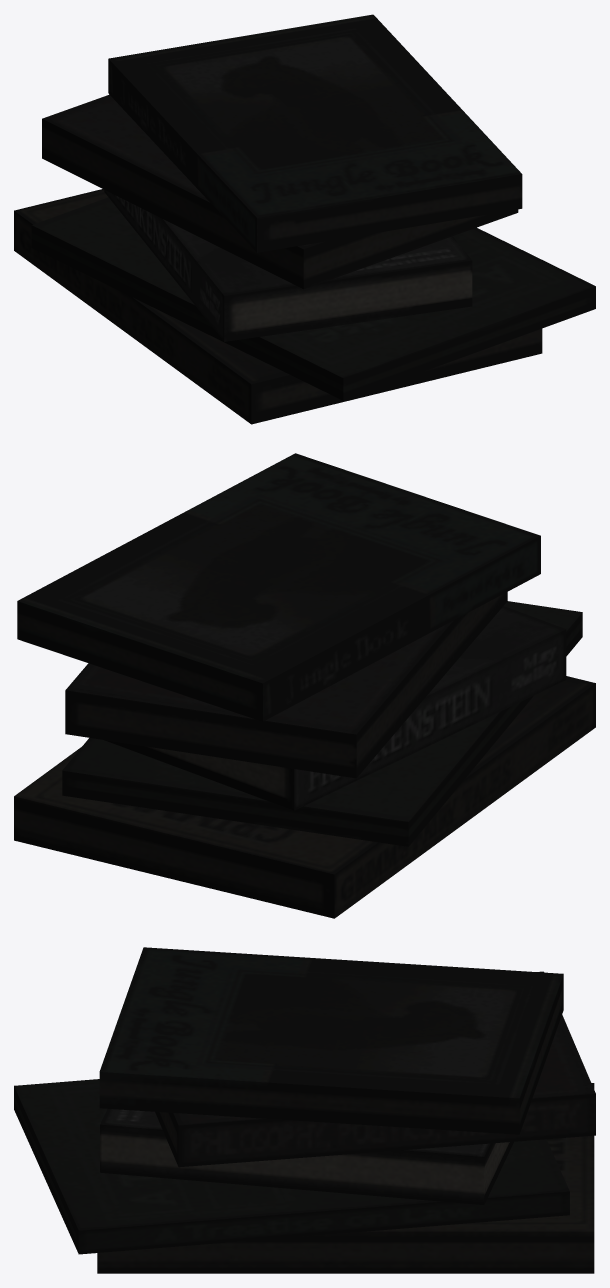
File: accessories_book_pile03_lod0.glb
The picture shows the model from 3 angles, top to bottom: view 1: azimuth 30°, elevation 25°; view 2: azimuth 150°, elevation 25°; view 3: azimuth 270°, elevation 25°; orthographic projection. The views are drawn at different scales.
Parts seen in each view (by area): view 1: surf0; view 2: surf0; view 3: surf0.
Boxes of the visible parts, x1=… form: surf0: x1=14, y1=14, x2=595, y2=424; surf0: x1=14, y1=453, x2=595, y2=918; surf0: x1=14, y1=947, x2=595, y2=1273.
Bounding box in the file's own units: 12.35 × 6 × 16.49.
